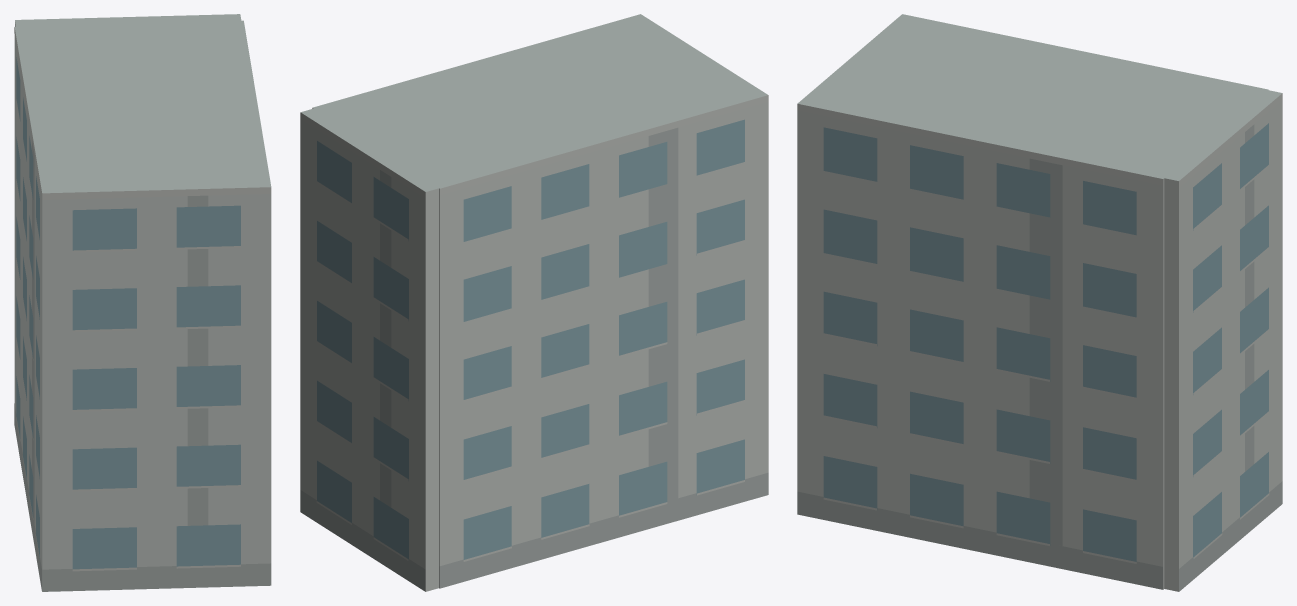
The model's file is survey-upis-32889996.glb.
3 renders of one model, left to right at view 1: azimuth 30°, elevation 25°; view 2: azimuth 150°, elevation 25°; view 3: azimuth 270°, elevation 25°, orthographic. The views are drawn at different scales.
Parts seen in each view (by area): view 1: survey-upis-32889996.tmp; view 2: survey-upis-32889996.tmp; view 3: survey-upis-32889996.tmp.
Part boxes in pixels (left/top/right/bottom): survey-upis-32889996.tmp: left=14, top=14, right=271, bottom=591; survey-upis-32889996.tmp: left=300, top=14, right=768, bottom=591; survey-upis-32889996.tmp: left=797, top=14, right=1282, bottom=591.
Bounding box in the file's own units: 12.57 × 14.4 × 15.43.
